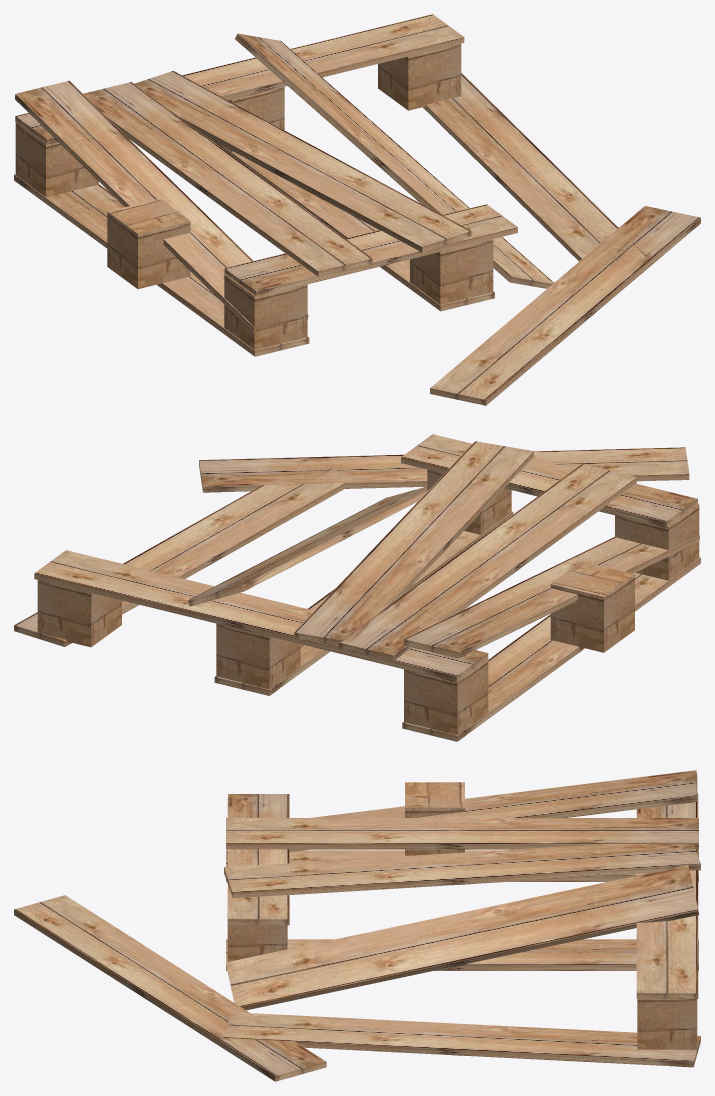
File: poddon_002.fbx
3 renders of one model, top to bottom at view 1: azimuth 30°, elevation 25°; view 2: azimuth 150°, elevation 25°; view 3: azimuth 270°, elevation 25°, orthographic. The views are drawn at different scales.
Visible parts, largest first — view 1: doska.002, doska.009, doska.008, doska.005, doska, doska.003, doska.007, doska.001, Cube.006, doska.006, Cube.005, Cube.003 (+4 smaller); view 2: doska.008, doska.009, doska.007, doska.002, doska, doska.005, doska.006, Cube.006, doska.001, Cube.004, doska.003, Cube.001 (+4 smaller); view 3: doska.003, doska.009, doska.008, doska, doska.002, doska.005, doska.007, doska.004, doska.001, Cube.001, Cube.006, Cube.003 (+1 smaller).
Boxes of the visible parts, x1=… form: doska.002: x1=430, y1=206, x2=700, y2=405; doska.009: x1=125, y1=70, x2=471, y2=252; doska.008: x1=83, y1=82, x2=372, y2=277; doska.005: x1=15, y1=80, x2=308, y2=332; doska: x1=423, y1=73, x2=647, y2=264; doska.003: x1=235, y1=33, x2=553, y2=288; doska.007: x1=15, y1=14, x2=464, y2=144; doska.001: x1=224, y1=204, x2=517, y2=295; Cube.006: x1=107, y1=199, x2=190, y2=289; doska.006: x1=14, y1=174, x2=309, y2=356; Cube.005: x1=224, y1=274, x2=307, y2=349; Cube.003: x1=410, y1=238, x2=493, y2=304; doska.008: x1=338, y1=464, x2=636, y2=661; doska.009: x1=294, y1=441, x2=533, y2=645; doska.007: x1=34, y1=550, x2=488, y2=681; doska.002: x1=199, y1=447, x2=689, y2=492; doska: x1=14, y1=460, x2=356, y2=646; doska.005: x1=403, y1=535, x2=699, y2=658; doska.006: x1=402, y1=557, x2=700, y2=741; Cube.006: x1=550, y1=561, x2=634, y2=652; doska.001: x1=401, y1=434, x2=697, y2=527; Cube.004: x1=404, y1=658, x2=488, y2=734; doska.003: x1=187, y1=486, x2=427, y2=606; Cube.001: x1=37, y1=580, x2=121, y2=647; doska.003: x1=225, y1=865, x2=699, y2=1010; doska.009: x1=224, y1=839, x2=700, y2=898; doska.008: x1=226, y1=818, x2=698, y2=849; doska: x1=224, y1=1012, x2=700, y2=1067; doska.002: x1=14, y1=895, x2=326, y2=1081; doska.005: x1=227, y1=770, x2=697, y2=854; doska.007: x1=636, y1=793, x2=698, y2=998; doska.004: x1=226, y1=939, x2=698, y2=970; doska.001: x1=228, y1=794, x2=289, y2=925; Cube.001: x1=637, y1=999, x2=697, y2=1050; Cube.006: x1=405, y1=782, x2=464, y2=855; Cube.003: x1=227, y1=887, x2=287, y2=961.
Bounding box in the file's own units: 357 × 74.7 × 436.
